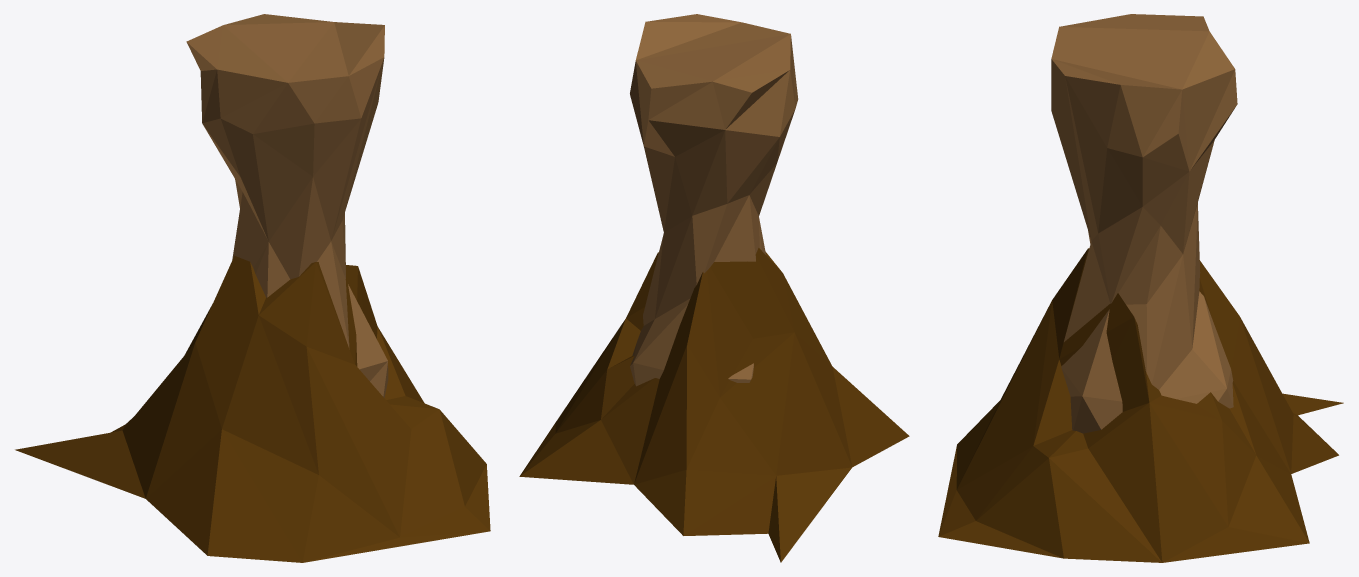
File: cliff.fbx
The picture shows the model from 3 angles, left to right: view 1: azimuth 30°, elevation 25°; view 2: azimuth 150°, elevation 25°; view 3: azimuth 270°, elevation 25°; orthographic projection. The views are drawn at different scales.
Parts seen in each view (by area): view 1: cliff; view 2: cliff; view 3: cliff.
Boxes of the visible parts, box(x1,y1,x2,y2) form: cliff: box(15, 14, 490, 562); cliff: box(519, 14, 909, 562); cliff: box(938, 14, 1343, 562).
Bounding box in the file's own units: 228 × 287 × 238.
